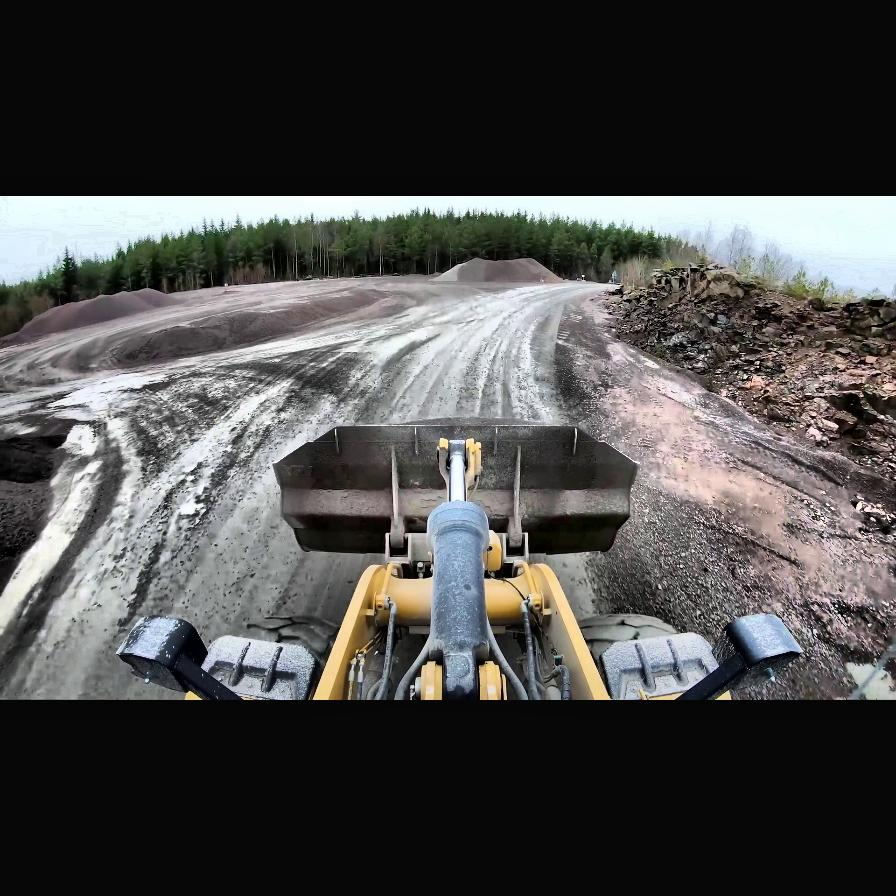anchor: (437, 438, 482, 499)
pile of gravel: (107, 289, 383, 367), (4, 288, 180, 346), (263, 287, 381, 325), (436, 258, 562, 284), (384, 273, 438, 279)
